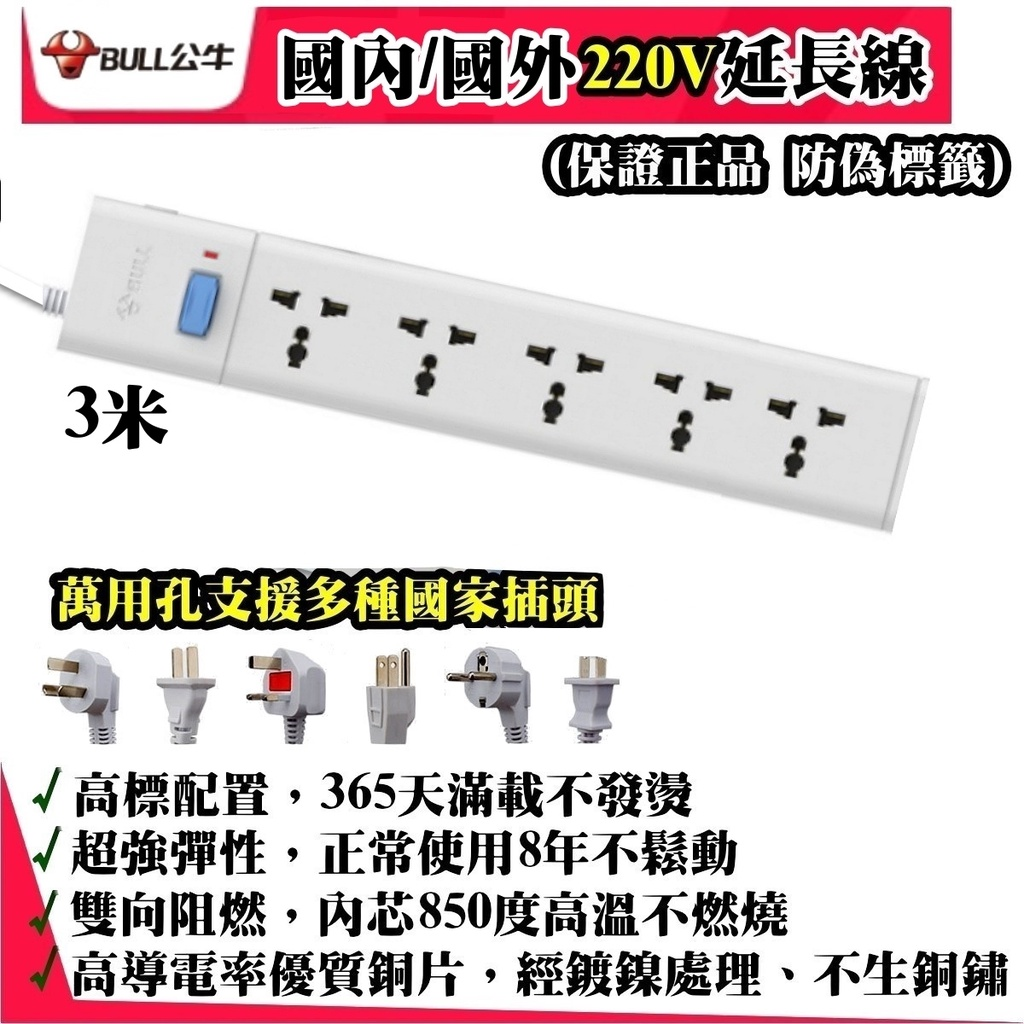socket: (42, 193, 932, 532)
